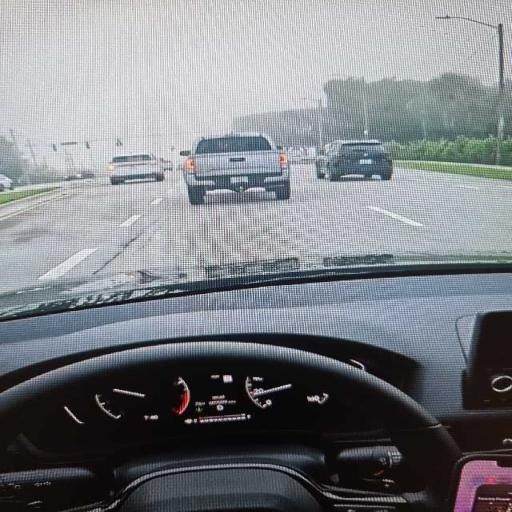car: (0, 254, 511, 511), (180, 133, 290, 204), (316, 140, 392, 181), (108, 154, 163, 184), (314, 143, 331, 178), (65, 171, 95, 180), (0, 175, 14, 191)
lane: (0, 165, 511, 287), (0, 182, 165, 288), (40, 249, 96, 279), (368, 206, 423, 227)
